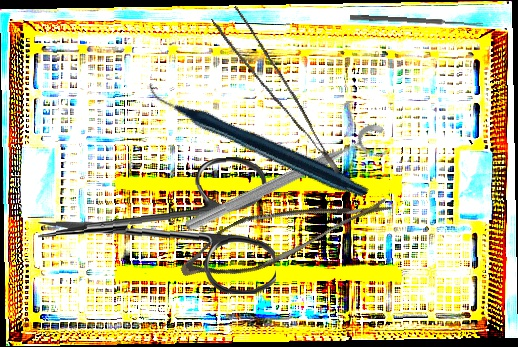Fixation Ring: (181, 119, 395, 249)
Handpiece: (147, 15, 370, 262)
Iris Scissors: (35, 155, 277, 302)
Micro Scissor: (173, 149, 397, 313)
Surgical Spoon: (349, 14, 484, 28)
Tissue Forceps: (211, 0, 340, 191)
